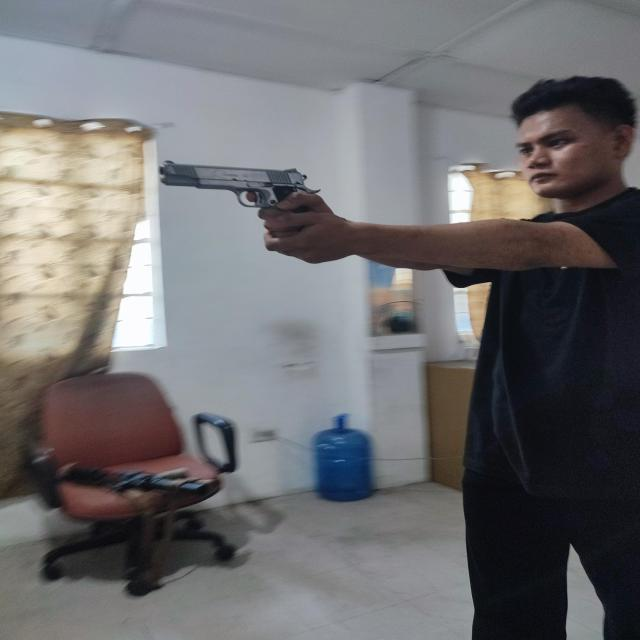pistol: (159, 160, 321, 208)
